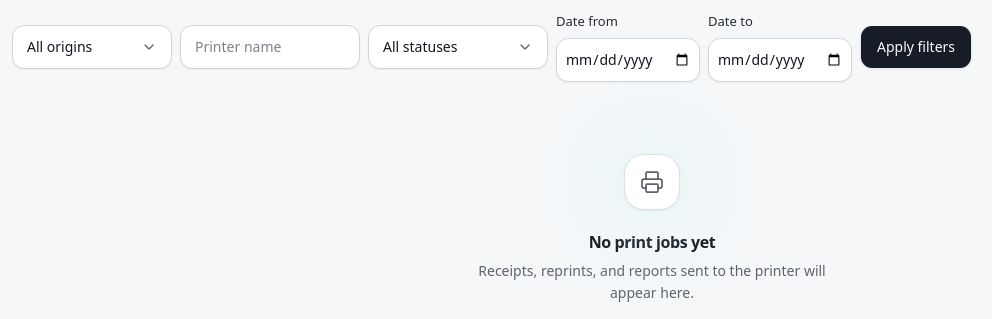
it: PrintJobsTable › renders "No print jobs match these filters" when a filter is applied with zero rows
The width and height of the screenshot is (992, 319).
In the field with placeholder "Printer name": point(270, 47) [180, 25, 360, 69], type "X"
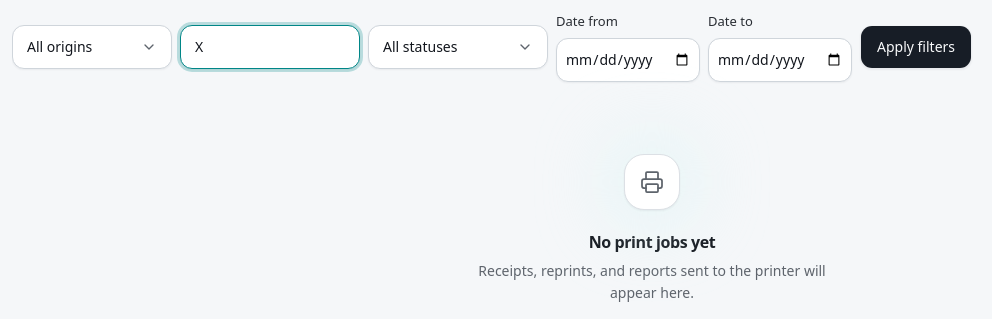
Click the button "Apply filters": point(916, 47) [860, 25, 972, 69]
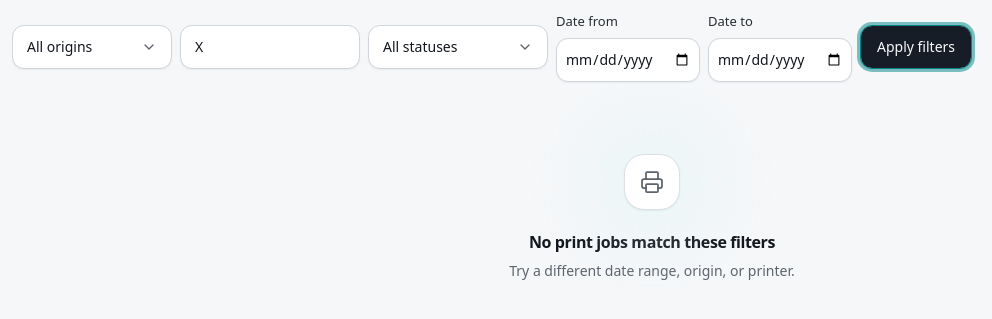
Expected: the heading "No print jobs match these filters" is shown, [529, 230, 775, 254]
